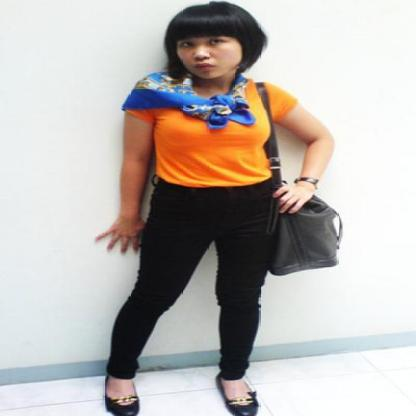bag: (255, 82, 341, 274)
pants: (106, 178, 286, 385)
shirt: (137, 83, 308, 194)
shoe: (104, 369, 258, 415)
